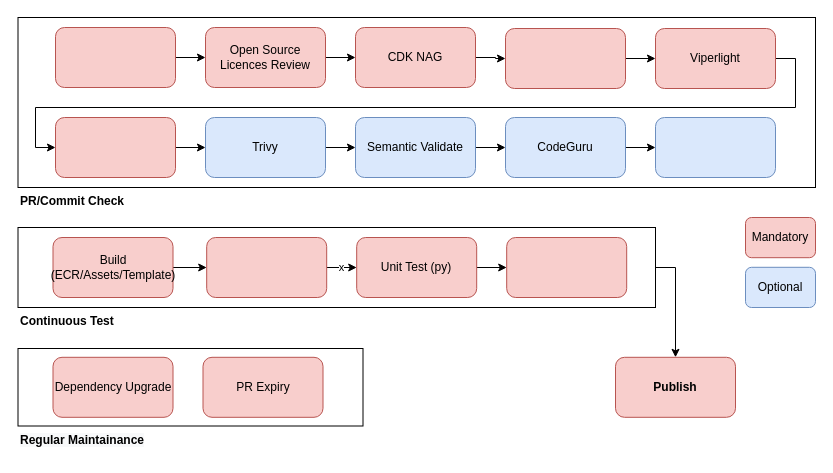
This 833x473 diagram has some shape labels left out. Here are the shapes that lost their labels. From the top down, the centre of each, then its label:
At [115,57]: "Git Secrets".
At [565,58]: "CFN NAG".
At [115,147]: "Semgrep".
At [715,147]: "SonaQube".
At [266,267]: "Unit Test (ts)".
At [566,267]: "Integration Test".
